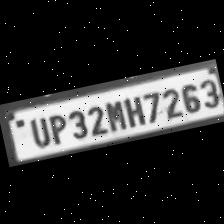2: (156, 82, 182, 120), (82, 100, 108, 136)
3: (62, 104, 88, 140), (195, 74, 221, 110)
6: (176, 79, 201, 115)
7: (138, 87, 164, 123)
H: (119, 90, 146, 127)
M: (100, 95, 127, 132)
P: (44, 109, 68, 145)
U: (23, 112, 50, 148)
